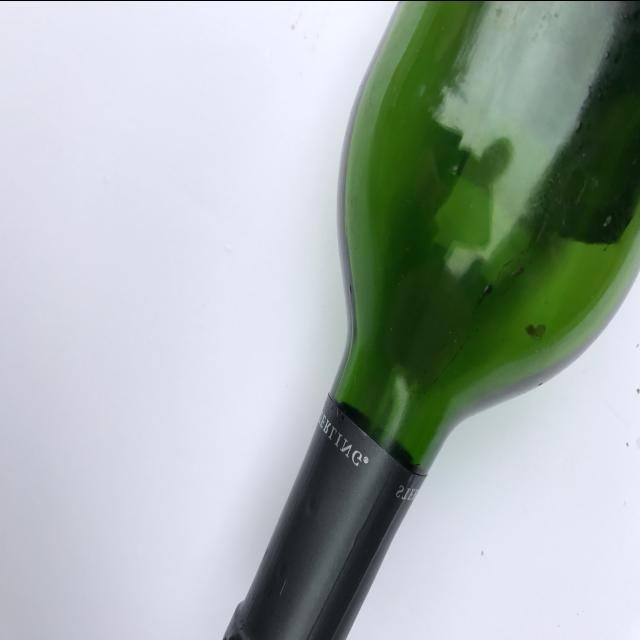glass: (217, 0, 638, 640)
